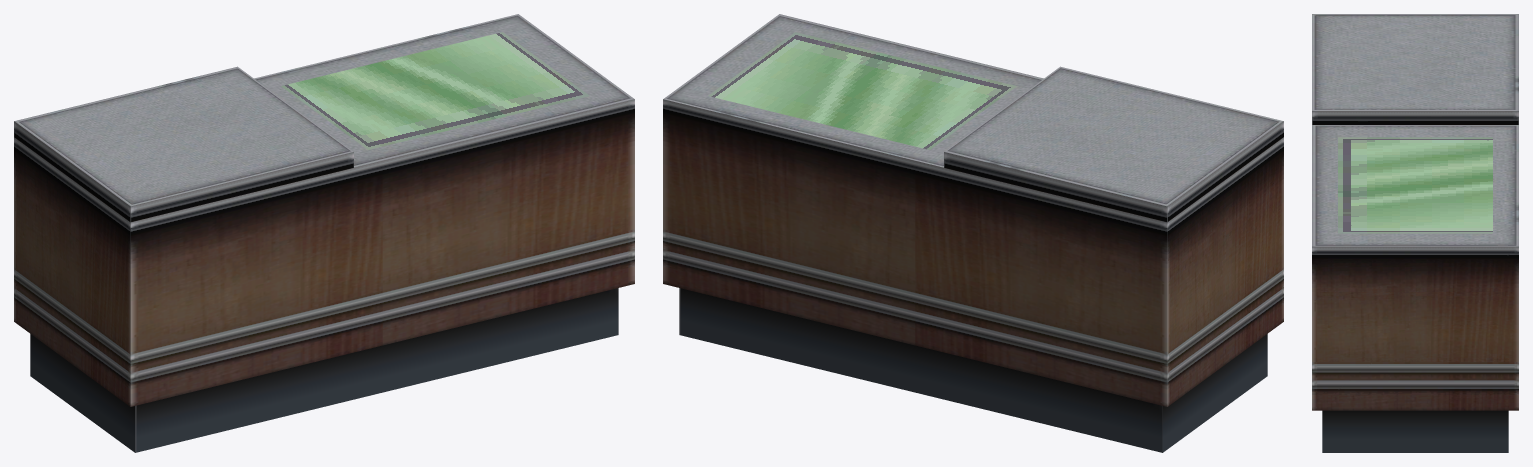
The model's file is cashier_counter.fbx.
3 views of the same model, side by side, from view 1: azimuth 30°, elevation 25°; view 2: azimuth 150°, elevation 25°; view 3: azimuth 270°, elevation 25° (orthographic). The views are drawn at different scales.
Visible parts, largest first — view 1: mesh_1, mesh_2; view 2: mesh_1, mesh_2; view 3: mesh_1, mesh_2.
Boxes of the visible parts, x1,y1,x2,y2 form: mesh_1: (14, 14, 634, 452); mesh_2: (281, 32, 589, 149); mesh_1: (663, 14, 1283, 452); mesh_2: (708, 32, 1016, 149); mesh_1: (1312, 14, 1518, 452); mesh_2: (1338, 137, 1492, 233).
Size of the model in its own units: 200 by 96 by 80.
